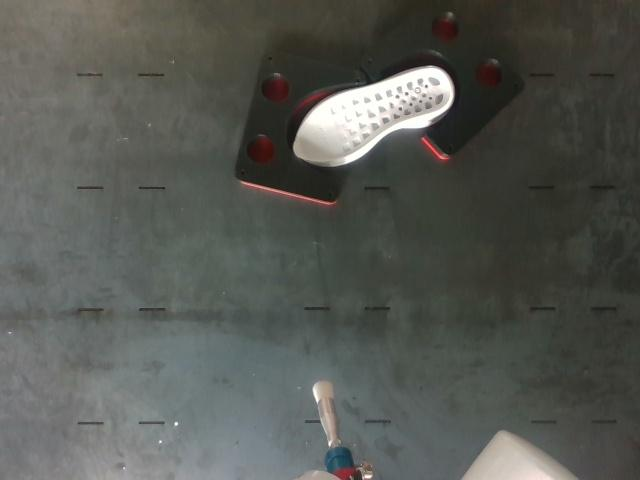shoes: (293, 69, 451, 161)
